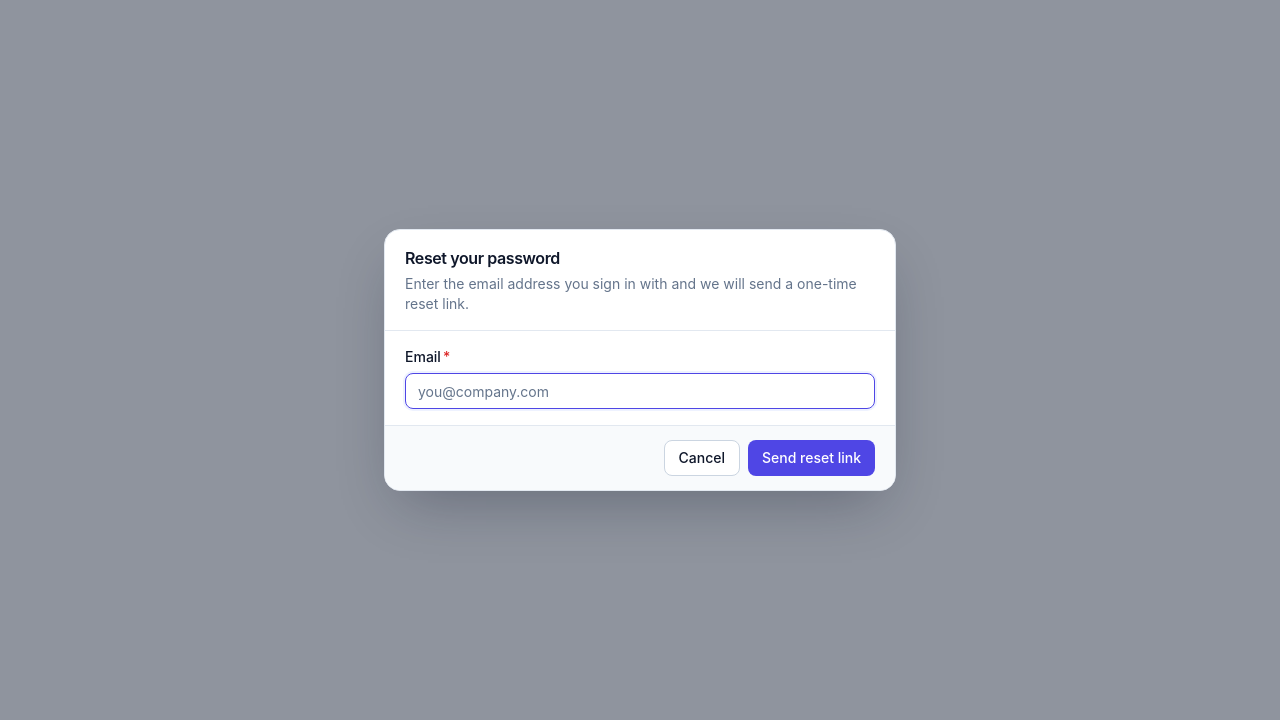
Test case: ForgotPasswordDialog › validates the email before calling the API
In the field labelled "Email*": coordinates (640, 391) x1=405 y1=373 x2=875 y2=409, type "not-an-email"
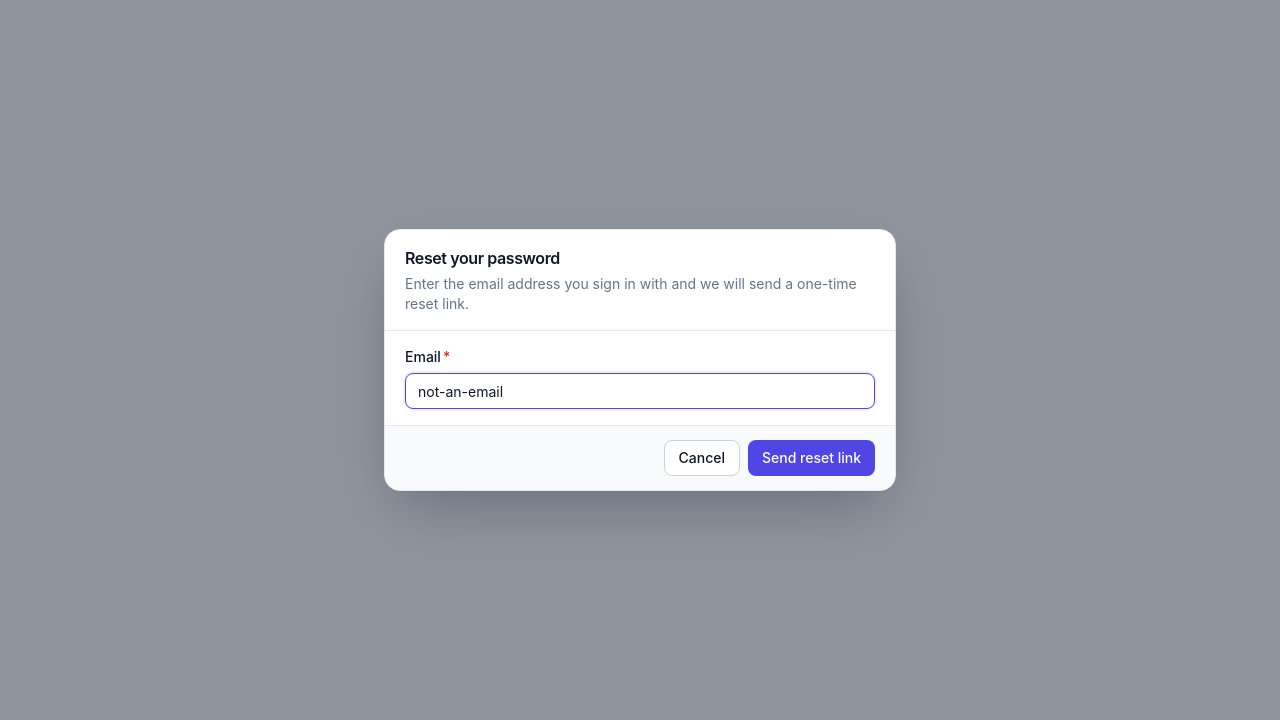
Click the button "Send reset link": coordinates (812, 458) x1=748 y1=440 x2=875 y2=476
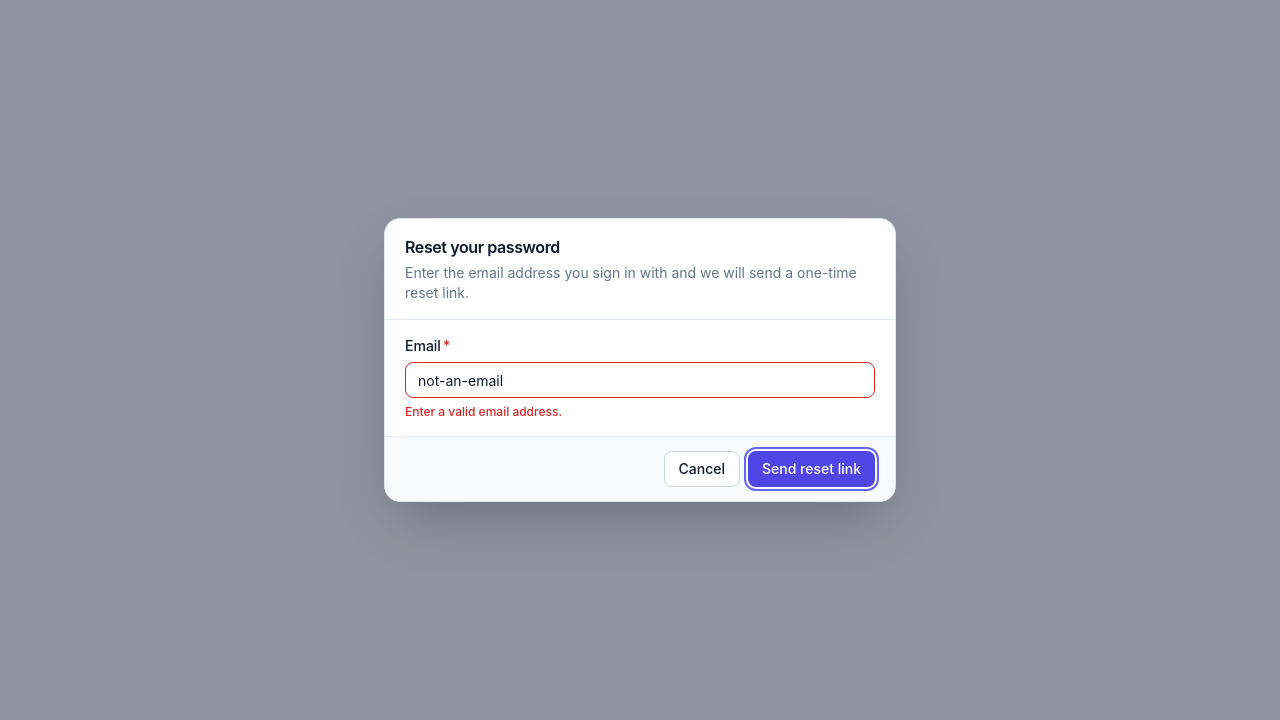
Expected: the text "Enter a valid email address." is shown, x1=405 y1=404 x2=562 y2=419
